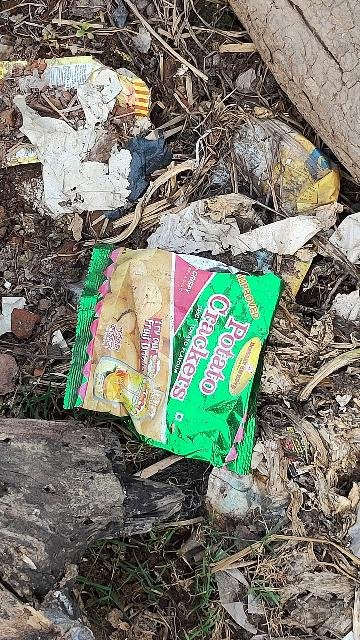packet: (54, 235, 289, 463)
